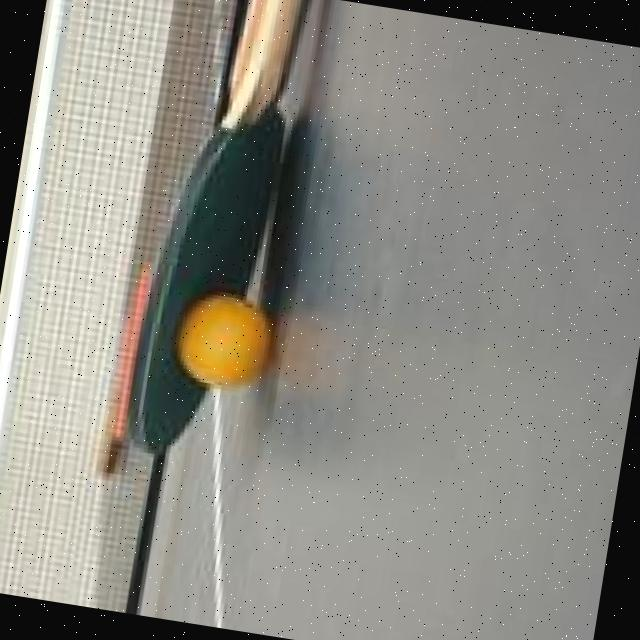ping-pong-ball: (172, 288, 281, 394)
